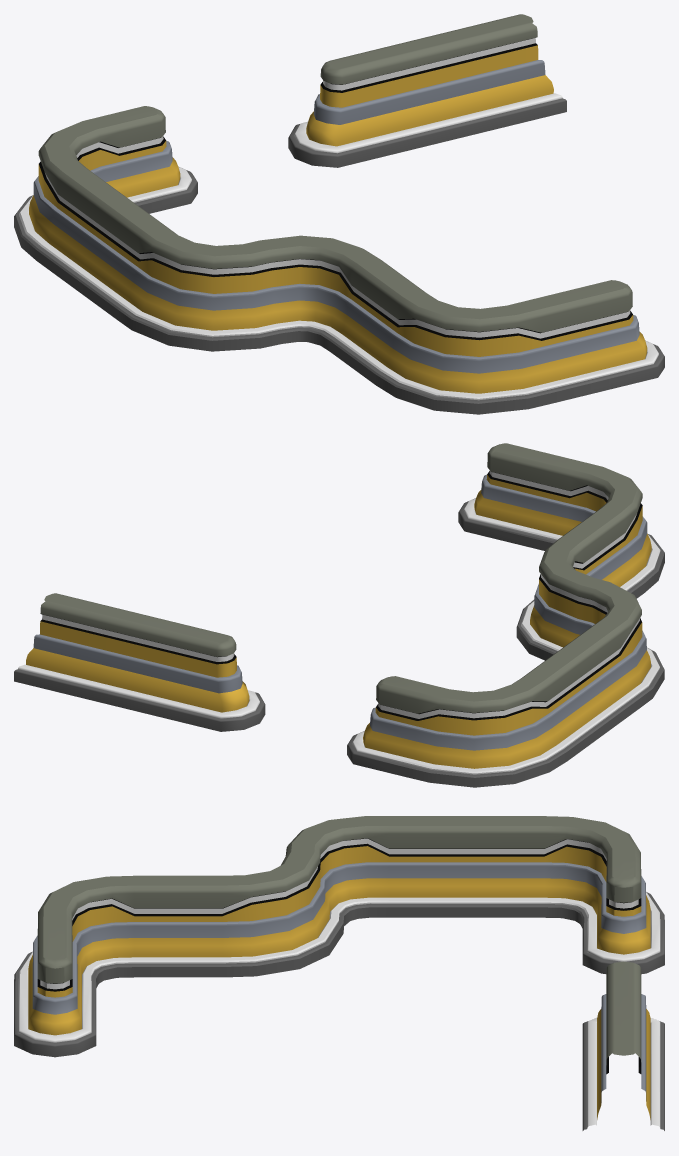
File: Level15_Small_walls.fbx
3 renders of one model, top to bottom at view 1: azimuth 30°, elevation 25°; view 2: azimuth 150°, elevation 25°; view 3: azimuth 270°, elevation 25°, orthographic. The views are drawn at different scales.
Parts seen in each view (by area): view 1: Small_walls, Small_wallv2_7; view 2: Small_walls, Small_wallv2_7; view 3: Small_walls, Small_wallv2_7.
Boxes of the visible parts, bbox=[...] form: Small_walls: bbox=[14, 106, 664, 414]; Small_wallv2_7: bbox=[288, 14, 566, 167]; Small_walls: bbox=[347, 443, 664, 787]; Small_wallv2_7: bbox=[14, 593, 265, 731]; Small_walls: bbox=[14, 816, 664, 1057]; Small_wallv2_7: bbox=[582, 961, 664, 1130].
Bounding box in the file's own units: 256 × 37.08 × 272.
